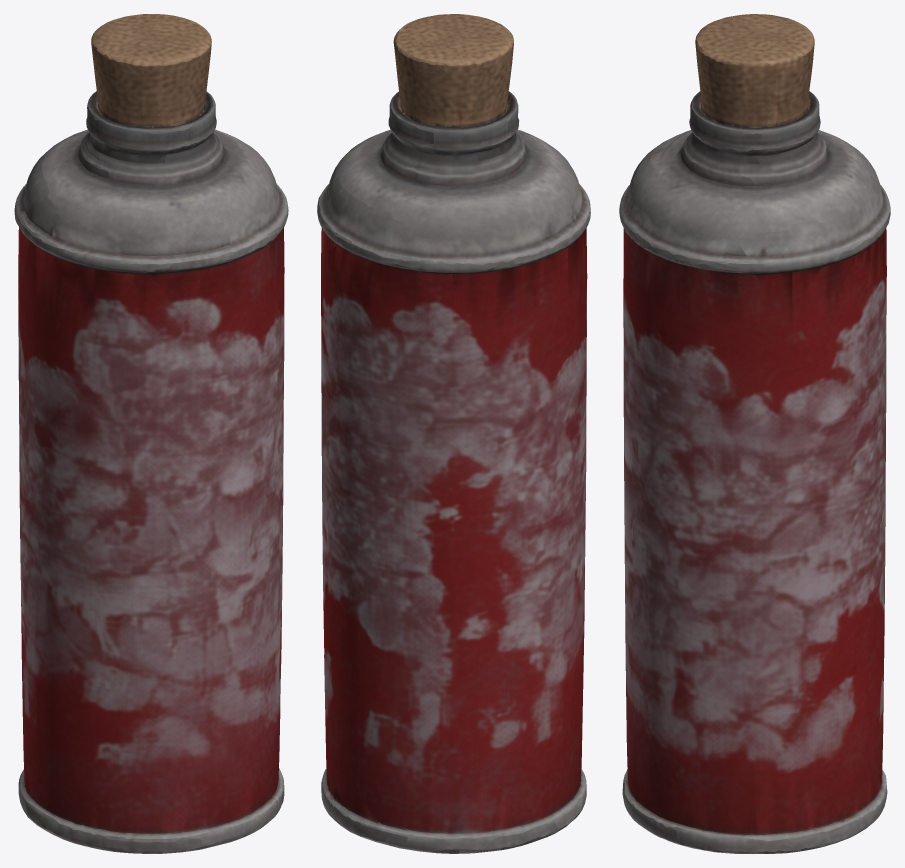
Rendered from lm_thermos.glb.
The picture shows the model from 3 angles, left to right: view 1: azimuth 30°, elevation 25°; view 2: azimuth 150°, elevation 25°; view 3: azimuth 270°, elevation 25°; orthographic projection.
Visible parts, largest first — view 1: world; view 2: world; view 3: world.
Boxes of the visible parts, <box> form: world: <box>14,14,288,853</box>; world: <box>317,14,590,853</box>; world: <box>619,14,890,853</box>.
Size of the model in its own units: 9.08 by 28 by 9.01.
Materials: 1 (1 with a texture image).
